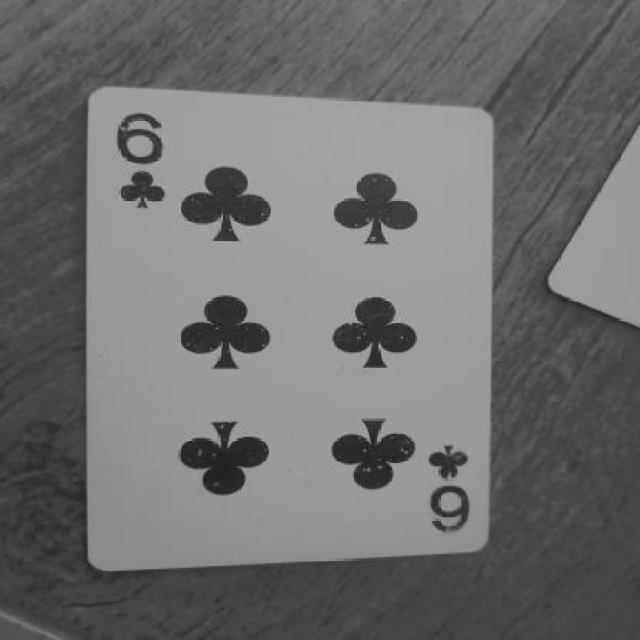6C: (105, 108, 193, 212), (413, 430, 487, 536)
